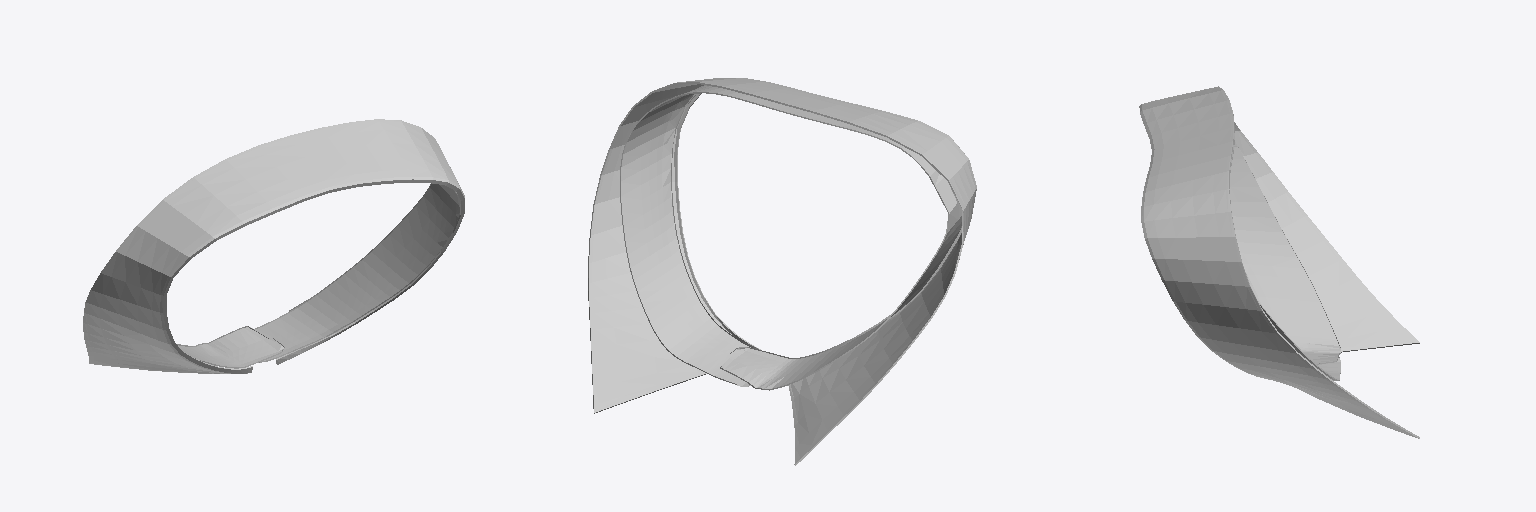
File: medium_spread.obj
The picture shows the model from 3 angles: view 1: azimuth 30°, elevation 25°; view 2: azimuth 150°, elevation 25°; view 3: azimuth 270°, elevation 25°; orthographic projection.
Parts seen in each view (by area): view 1: 4_medium_spread, inner_collar_out; view 2: 4_medium_spread, inner_collar_out; view 3: 4_medium_spread, inner_collar_out.
Part boxes in pixels (x1,y1,x2,y2): 4_medium_spread: (83, 119, 464, 373); inner_collar_out: (177, 183, 460, 368); 4_medium_spread: (588, 78, 976, 465); inner_collar_out: (620, 85, 961, 390); 4_medium_spread: (1139, 86, 1419, 438); inner_collar_out: (1229, 133, 1340, 380).
Bounding box in the file's own units: 18.01 × 13.17 × 12.42.